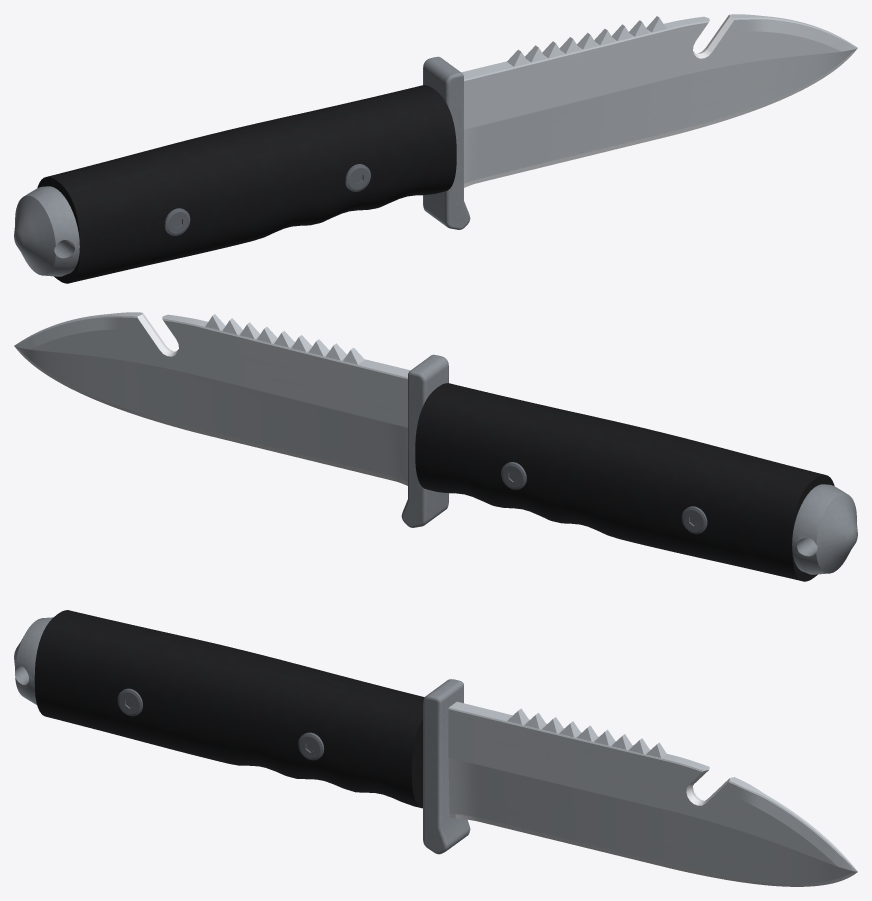
The model's file is survival.glb.
3 renders of one model, top to bottom at view 1: azimuth 30°, elevation 25°; view 2: azimuth 150°, elevation 25°; view 3: azimuth 330°, elevation 25°, orthographic.
Visible parts, largest first — view 1: body; view 2: body; view 3: body.
Boxes of the visible parts, left/top/right/bottom form: body: left=14, top=14, right=857, bottom=283; body: left=14, top=312, right=857, bottom=581; body: left=14, top=610, right=857, bottom=886.
Size of the model in its own units: 0.27 by 0.0482 by 0.0272.
5 materials, 5 textured.
